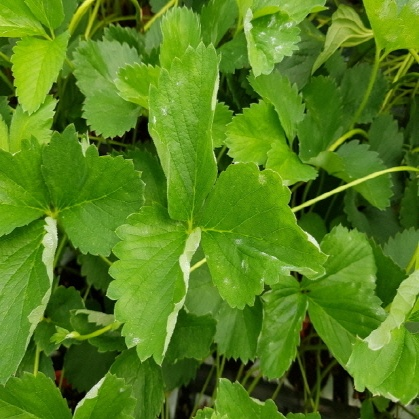Powdery_Leaf: (57, 214, 418, 387), (33, 223, 301, 368), (89, 160, 226, 311), (202, 199, 314, 367), (189, 40, 271, 223), (72, 371, 348, 418), (116, 7, 243, 80)
